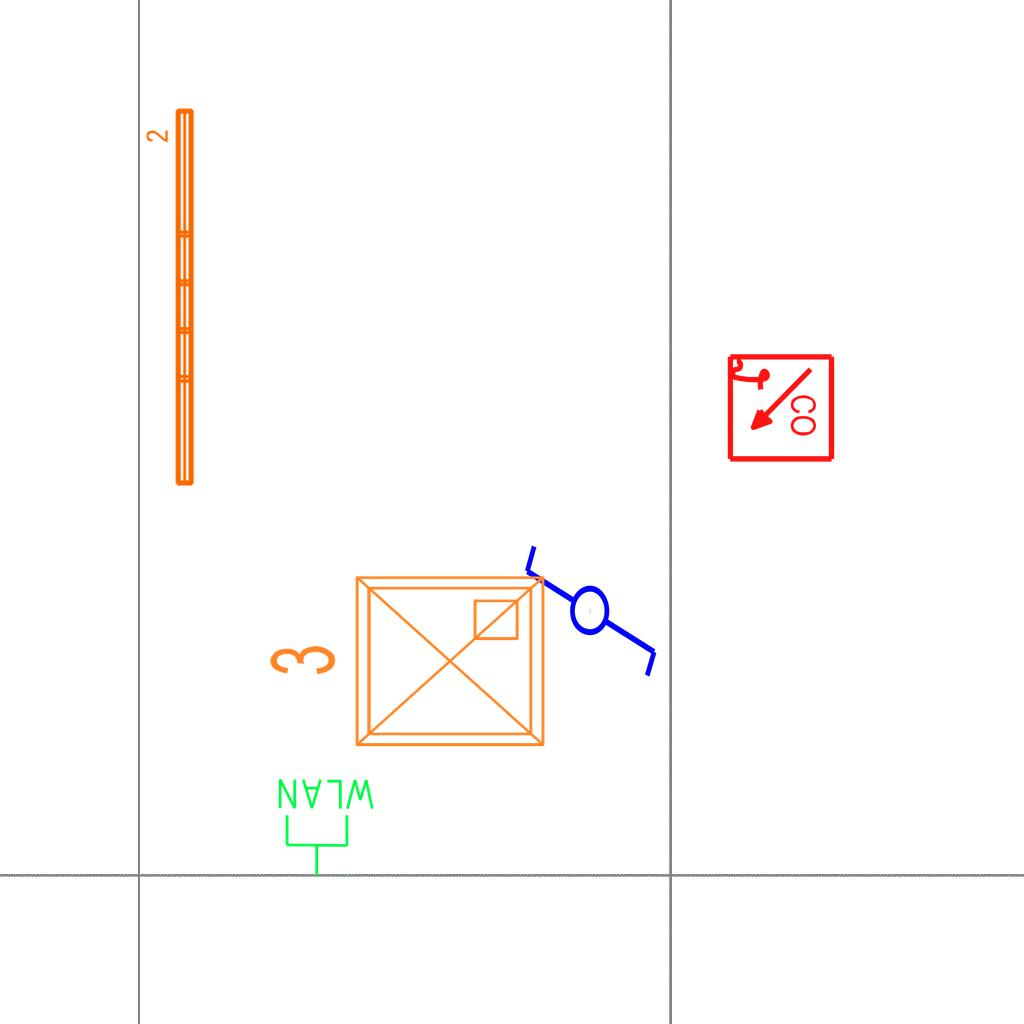Ambulanz_Pendelleuchte_LED: (144, 104, 200, 491)
Einbaudownlights_LED_Konferenzraeume: (259, 561, 559, 769)
ROA_Rauchmelder_optisch_mit_Signalgeber_(Sockelsirene): (723, 352, 836, 465)
WLAN: (274, 775, 379, 879)
Wechselschalter: (520, 524, 664, 681)
